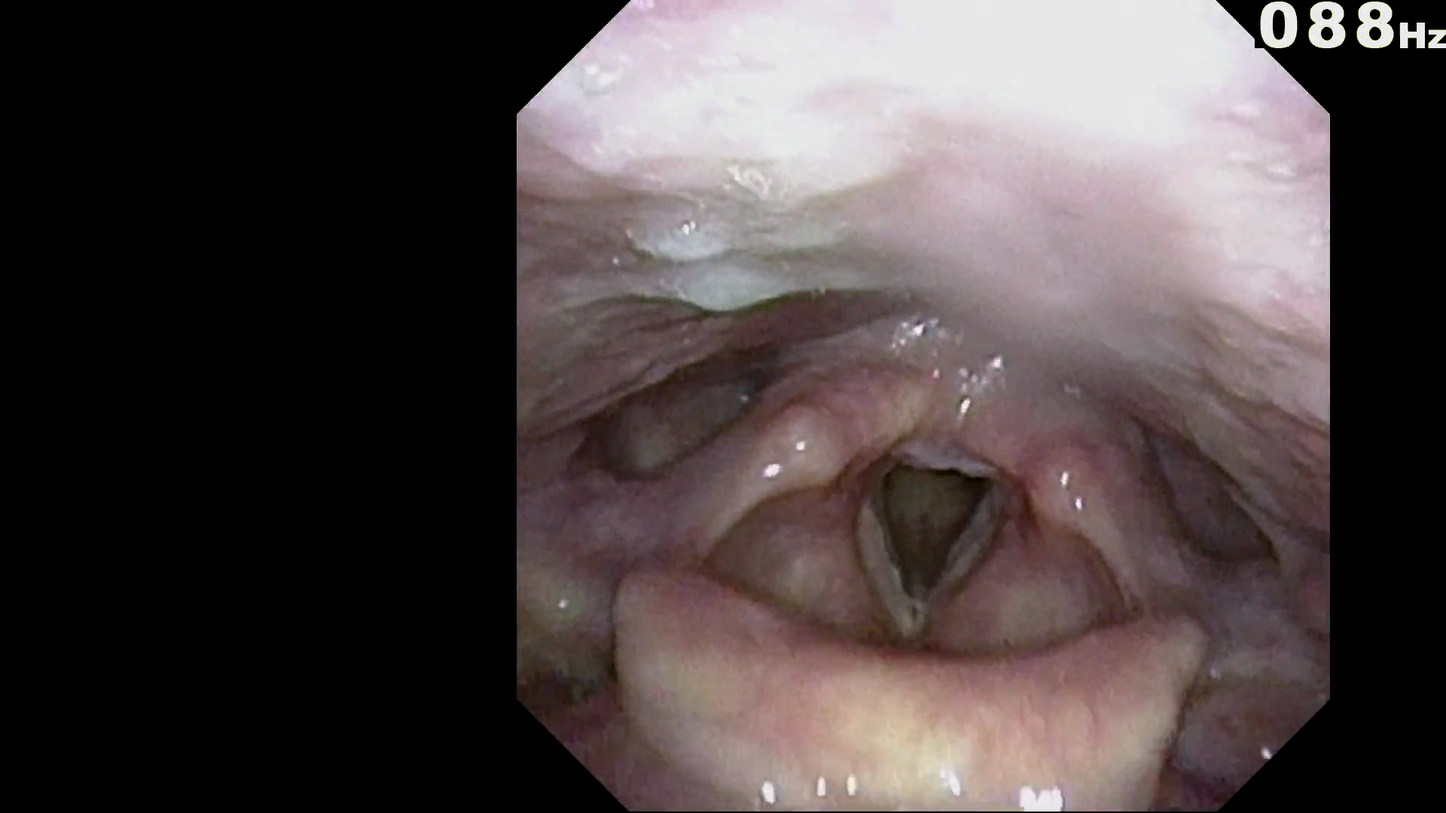epiglottis: (623, 568, 1182, 758)
trachea: (865, 435, 986, 604)
